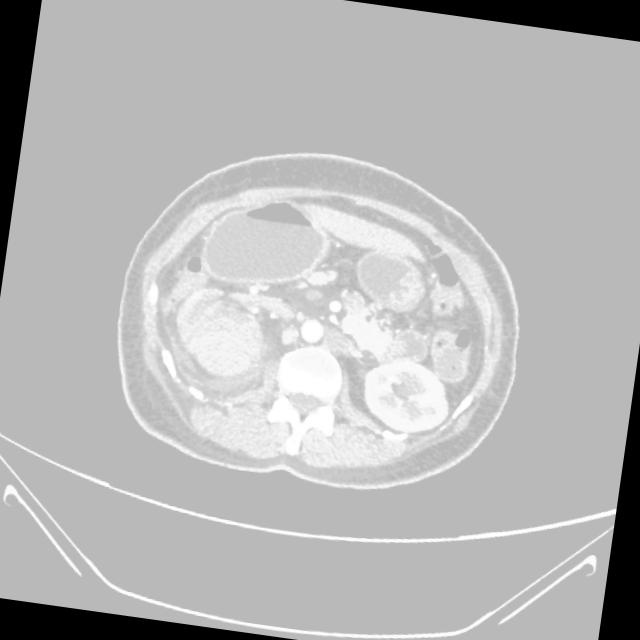TUMOR: (198, 155, 587, 393)
